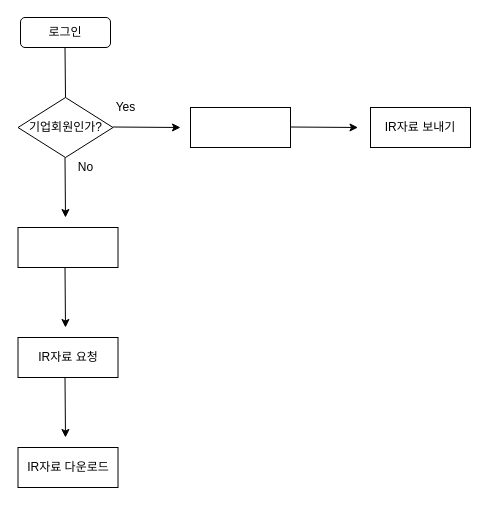
Some shapes in this 488 by 505 pixel diagram are drawn without their labels. The centre of each missing label's shape, as x and y in pixels:
"스타트업 찾기" belongs at point (67, 247).
"투자사 찾기" belongs at point (240, 127).
